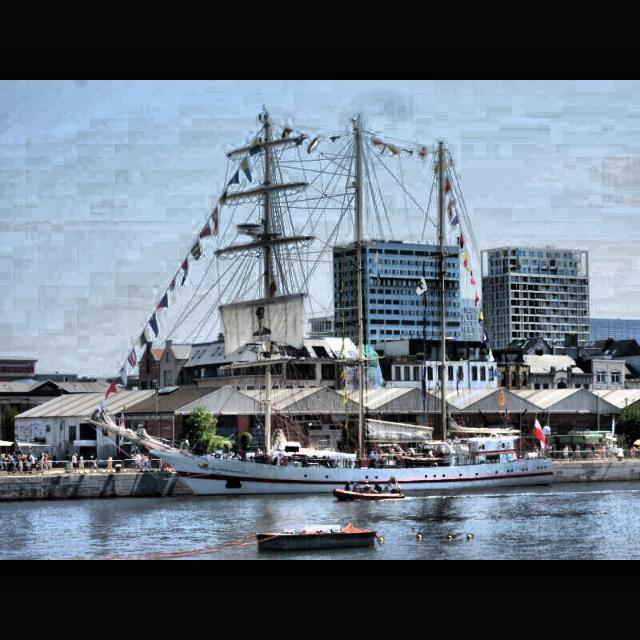sailing_vessel: (84, 109, 556, 498)
